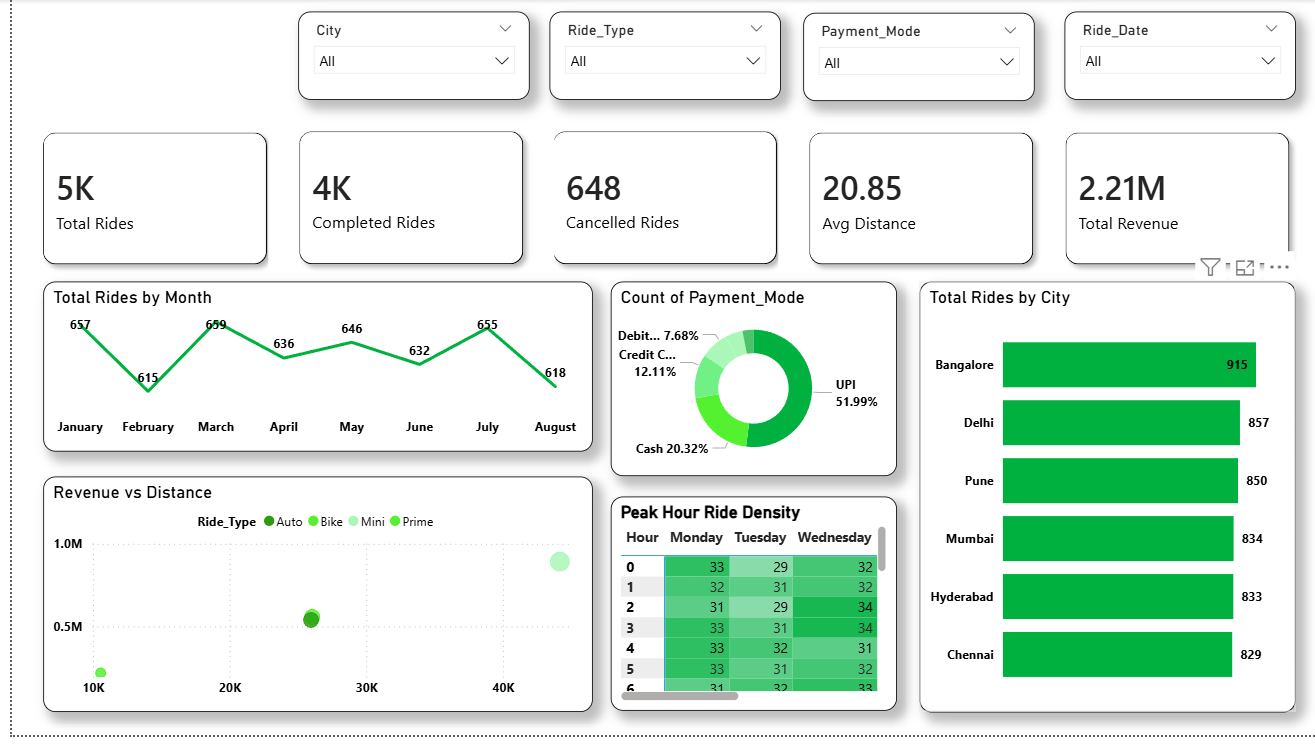

This screenshot's page, from the dashboard's own definition file:
{"tool":"powerbi","page":{"name":"Page 1","canvas":[1280,720],"ordinal":0},"visuals":[{"type":"cardVisual","fields":{"Data":["Ola_Ride_Analytics_Realistic_15cols_Dirty_5800.Total Rides"]},"box":[0,100.2,279.9,189.4],"z":0},{"type":"cardVisual","fields":{"Data":["Ola_Ride_Analytics_Realistic_15cols_Dirty_5800.Total Revenue"]},"box":[1000.3,100.2,279.9,189.4],"z":1},{"type":"cardVisual","fields":{"Data":["Ola_Ride_Analytics_Realistic_15cols_Dirty_5800.Cancelled Rides"]},"box":[499.5,98.8,279.9,190.7],"z":3},{"type":"cardVisual","fields":{"Data":["Ola_Ride_Analytics_Realistic_15cols_Dirty_5800.Completed Rides"]},"box":[251.1,98.8,279.9,190.7],"z":4},{"type":"cardVisual","fields":{"Data":["Ola_Ride_Analytics_Realistic_15cols_Dirty_5800.Avg Distance"]},"box":[749.2,100.2,279.9,189.4],"z":5},{"type":"lineChart","fields":{"Y":["Ola_Ride_Analytics_Realistic_15cols_Dirty_5800.Total Rides"],"Category":["Ola_Ride_Analytics_Realistic_15cols_Dirty_5800.Ride_Date.Variation.Date Hierarchy.Month"]},"box":[30.2,275.8,537.9,166],"z":6},{"type":"donutChart","title":"Count of Payment_Mode ","fields":{"Y":["CountNonNull(Ola_Ride_Analytics_Realistic_15cols_Dirty_5800.Payment_Mode)"],"Category":["Ola_Ride_Analytics_Realistic_15cols_Dirty_5800.Payment_Mode"]},"box":[585.9,275.8,279.9,190.7],"z":7},{"type":"barChart","fields":{"Y":["Ola_Ride_Analytics_Realistic_15cols_Dirty_5800.Total Rides"],"Category":["Ola_Ride_Analytics_Realistic_15cols_Dirty_5800.City"]},"box":[887.8,275.8,367.8,421.3],"z":8},{"type":"slicer","fields":{"Values":["Ola_Ride_Analytics_Realistic_15cols_Dirty_5800.City"]},"box":[279.9,12.3,226.4,86.4],"z":9},{"type":"slicer","fields":{"Values":["Ola_Ride_Analytics_Realistic_15cols_Dirty_5800.Ride_Type"]},"box":[525.6,12.3,226.4,86.4],"z":10},{"type":"slicer","fields":{"Values":["Ola_Ride_Analytics_Realistic_15cols_Dirty_5800.Payment_Mode"]},"box":[773.9,13.7,226.4,86.4],"z":11},{"type":"slicer","fields":{"Values":["Ola_Ride_Analytics_Realistic_15cols_Dirty_5800.Ride_Date"]},"box":[1029.2,12.3,226.4,86.4],"z":12},{"type":"scatterChart","title":"Revenue vs Distance","fields":{"X":["Sum(Ola_Ride_Analytics_Realistic_15cols_Dirty_5800.Ride_Distance_km)"],"Y":["Sum(Ola_Ride_Analytics_Realistic_15cols_Dirty_5800.Ride_Fare_INR)"],"Size":["Ola_Ride_Analytics_Realistic_15cols_Dirty_5800.Total Rides"],"Series":["Ola_Ride_Analytics_Realistic_15cols_Dirty_5800.Ride_Type"]},"box":[30.2,466.6,537.9,230.5],"z":13},{"type":"pivotTable","title":"Peak Hour Ride Density","fields":{"Rows":["Ola_Ride_Analytics_Realistic_15cols_Dirty_5800.Hour"],"Columns":["Ola_Ride_Analytics_Realistic_15cols_Dirty_5800.Day"],"Values":["Ola_Ride_Analytics_Realistic_15cols_Dirty_5800.Total_R2"]},"box":[585.9,487.1,279.9,209.9],"z":14}]}

Visuals, with their boxes in screenshot pixels (x1, y1, x2, y2), scaled from the page's 1280x720 canvas onto the 1315x745 screenshot:
cardVisual - Ola_Ride_Analytics_Realistic_15cols_Dirty_5800.Total Rides: {"left": 0, "top": 104, "right": 288, "bottom": 300}
cardVisual - Ola_Ride_Analytics_Realistic_15cols_Dirty_5800.Total Revenue: {"left": 1028, "top": 104, "right": 1314, "bottom": 300}
cardVisual - Ola_Ride_Analytics_Realistic_15cols_Dirty_5800.Cancelled Rides: {"left": 513, "top": 102, "right": 801, "bottom": 300}
cardVisual - Ola_Ride_Analytics_Realistic_15cols_Dirty_5800.Completed Rides: {"left": 258, "top": 102, "right": 546, "bottom": 300}
cardVisual - Ola_Ride_Analytics_Realistic_15cols_Dirty_5800.Avg Distance: {"left": 770, "top": 104, "right": 1057, "bottom": 300}
lineChart - Ola_Ride_Analytics_Realistic_15cols_Dirty_5800.Total Rides x Ola_Ride_Analytics_Realistic_15cols_Dirty_5800.Ride_Date.Variation.Date Hierarchy.Month: {"left": 31, "top": 285, "right": 584, "bottom": 457}
"Count of Payment_Mode " donutChart: {"left": 602, "top": 285, "right": 889, "bottom": 483}
barChart - Ola_Ride_Analytics_Realistic_15cols_Dirty_5800.Total Rides x Ola_Ride_Analytics_Realistic_15cols_Dirty_5800.City: {"left": 912, "top": 285, "right": 1290, "bottom": 721}
slicer - Ola_Ride_Analytics_Realistic_15cols_Dirty_5800.City: {"left": 288, "top": 13, "right": 520, "bottom": 102}
slicer - Ola_Ride_Analytics_Realistic_15cols_Dirty_5800.Ride_Type: {"left": 540, "top": 13, "right": 773, "bottom": 102}
slicer - Ola_Ride_Analytics_Realistic_15cols_Dirty_5800.Payment_Mode: {"left": 795, "top": 14, "right": 1028, "bottom": 104}
slicer - Ola_Ride_Analytics_Realistic_15cols_Dirty_5800.Ride_Date: {"left": 1057, "top": 13, "right": 1290, "bottom": 102}
"Revenue vs Distance" scatterChart: {"left": 31, "top": 483, "right": 584, "bottom": 721}
"Peak Hour Ride Density" pivotTable: {"left": 602, "top": 504, "right": 889, "bottom": 721}
